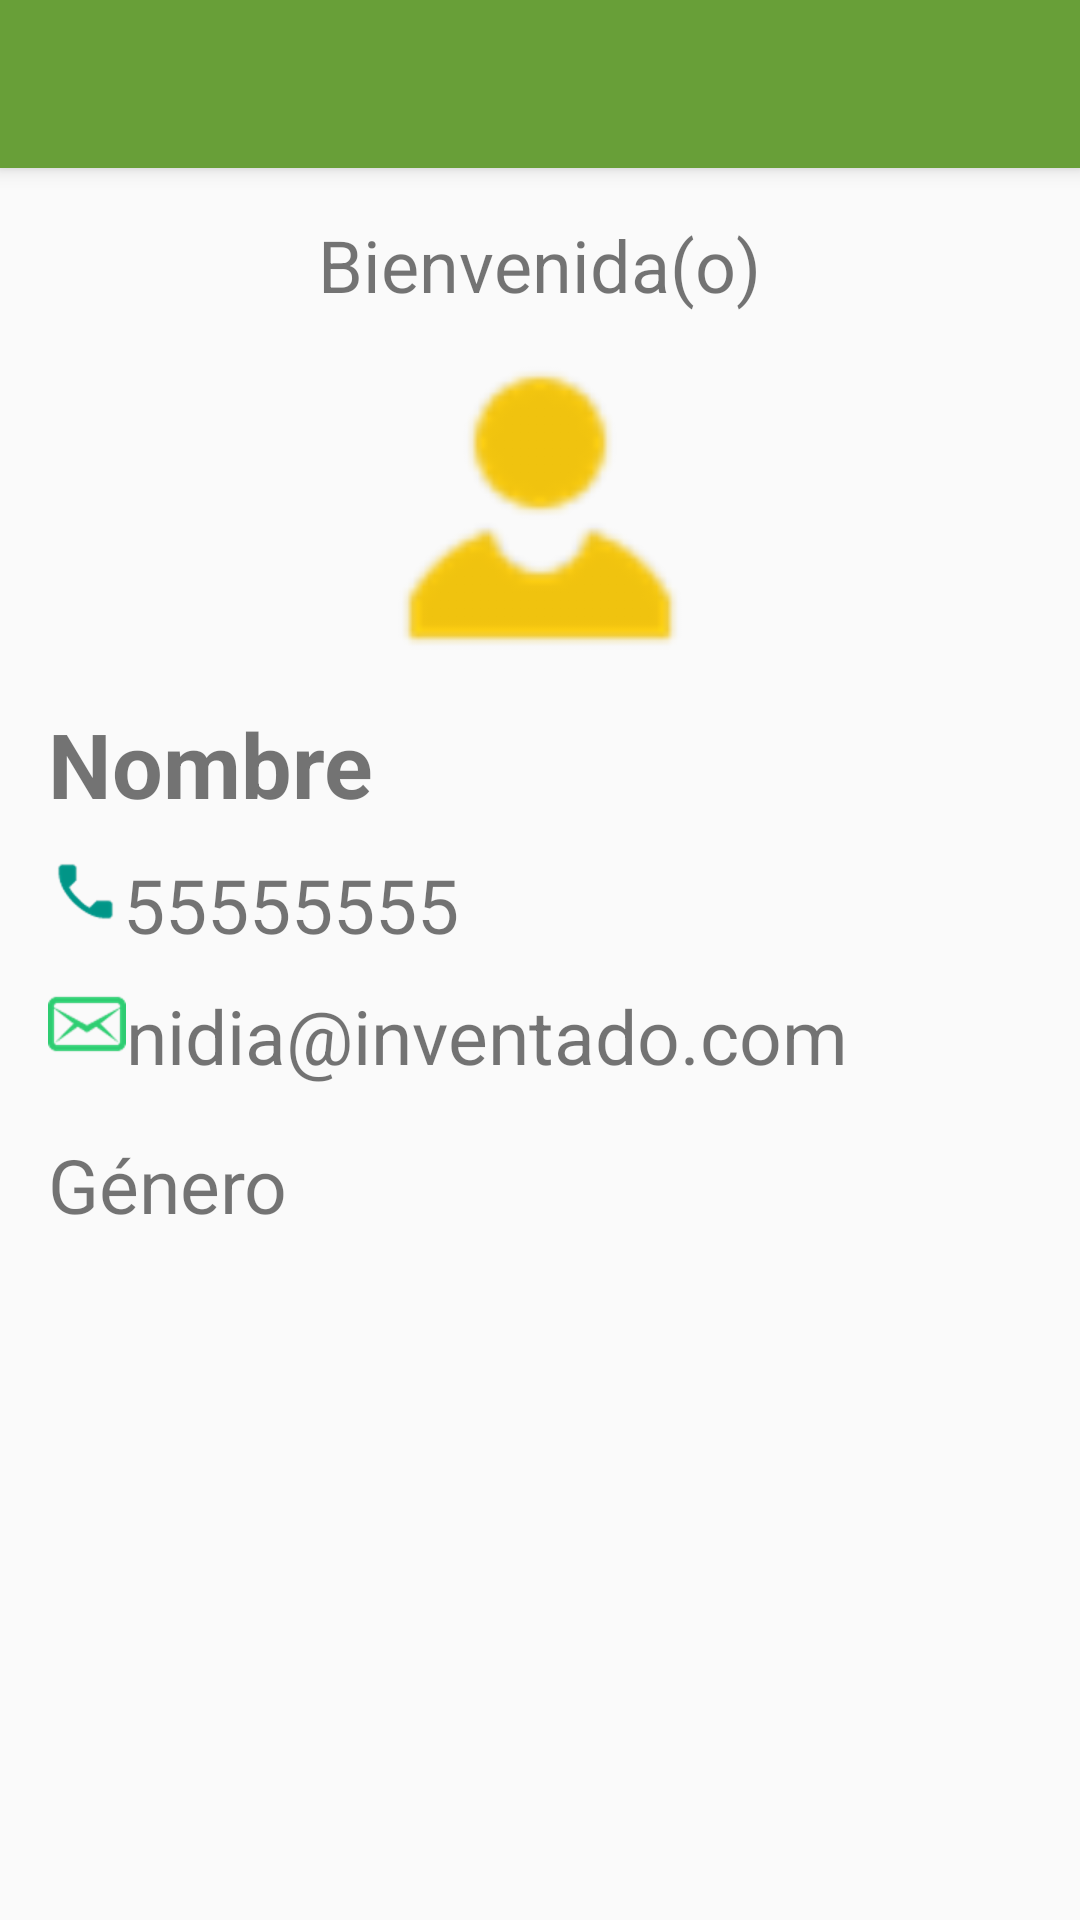

Screen size 1080px x 1920px. Icon name, then its center in pixels as (x,y):
message: (87,1024)
persona de sexo masculino: (540,508)
phone: (85,891)
